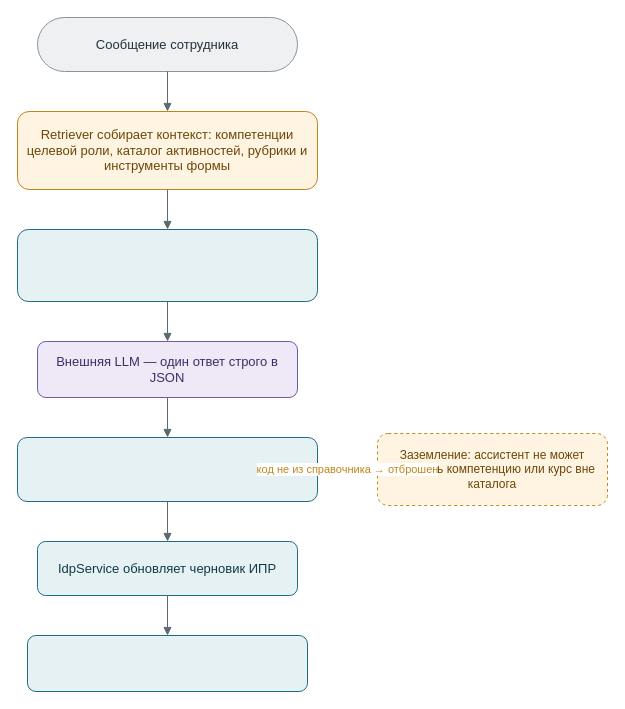
Some shapes in this 625 by 709 pixel diagram are drawn without their labels. Here are the shapes that lost their labels. From the top down, the box of each, then its label:
(16, 228, 318, 302): PromptBuilder: системный промпт + стадия + состояние сессии + контекст + история
(16, 436, 318, 502): DraftParser разбирает ответ и вычищает коды, которых нет в справочниках
(26, 634, 308, 692): Стадия двигается дальше (переход решает код, не модель)
